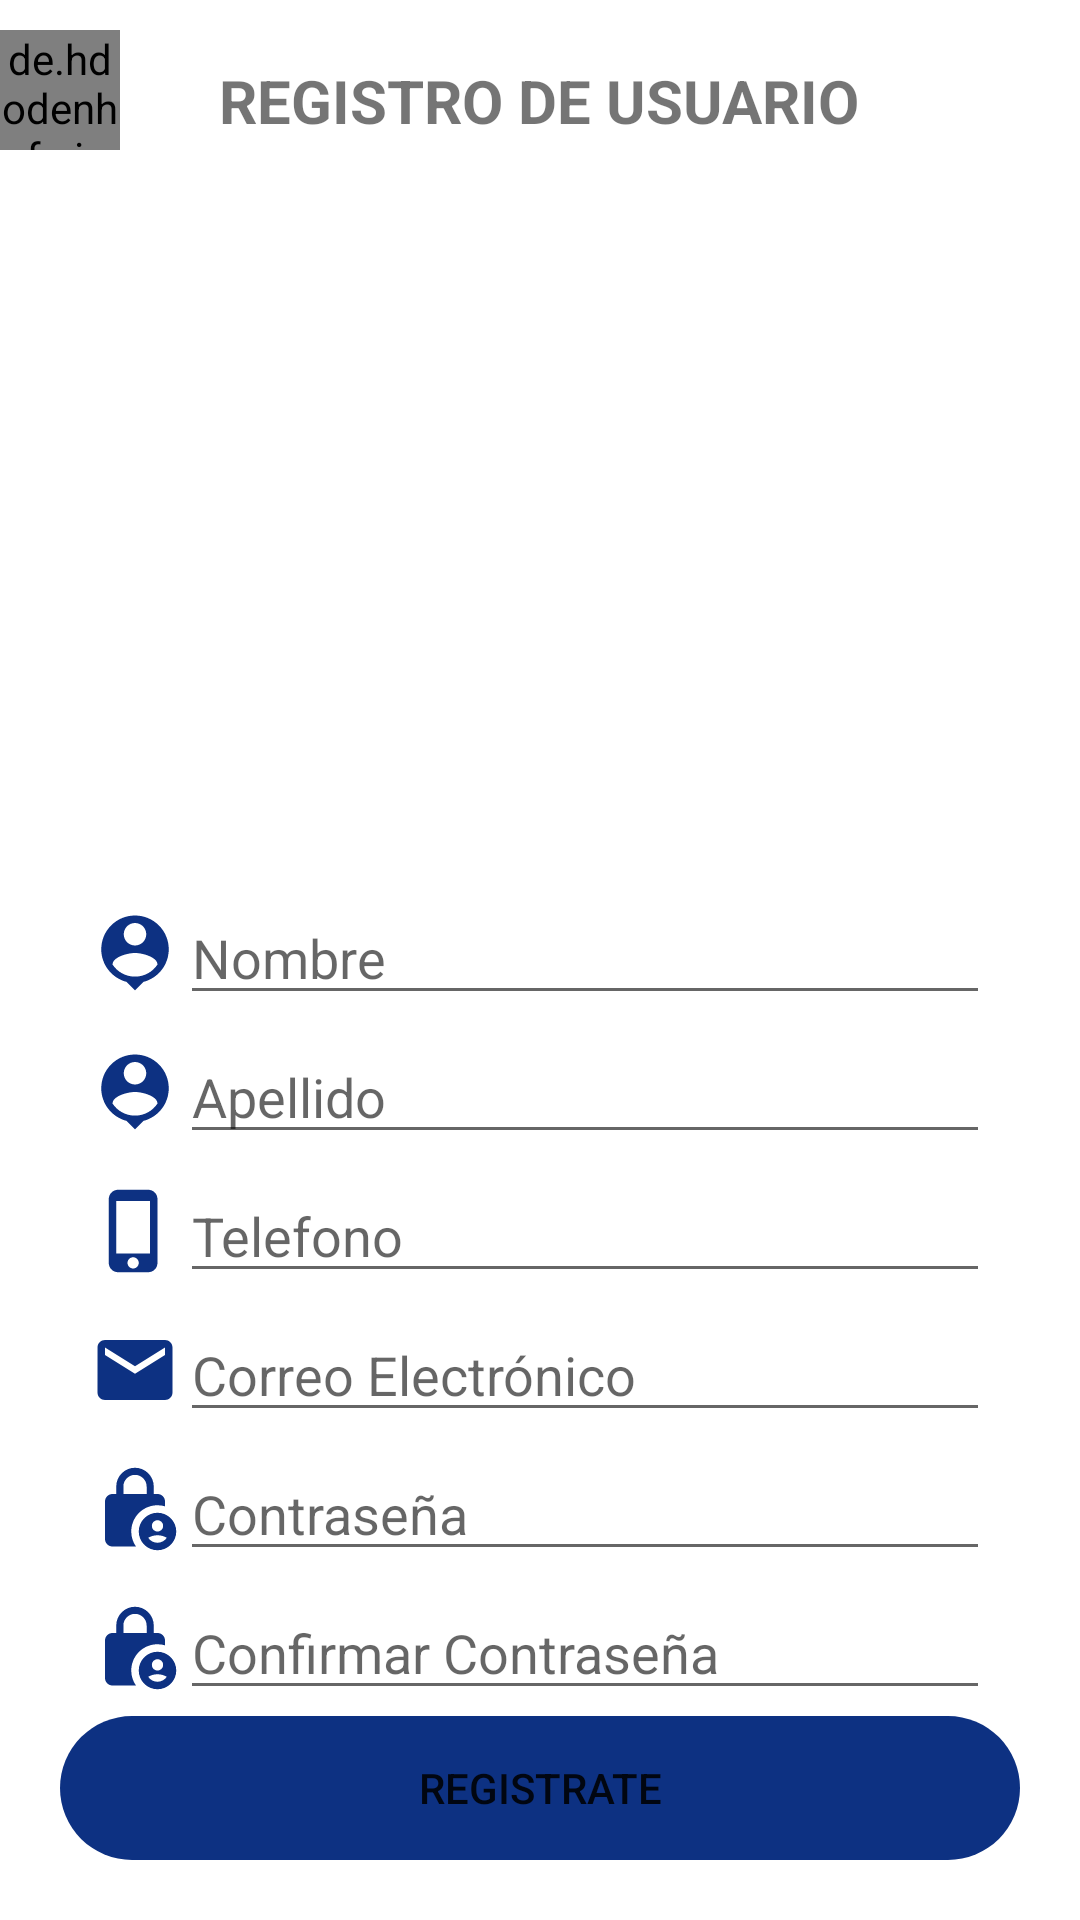

Where to tap for icons on this 1080px×1920px app screen, as (x=x, y=y):
email: (x=135, y=1370)
password: (x=141, y=1509), (x=141, y=1648)
person: (x=135, y=952), (x=135, y=1091)
